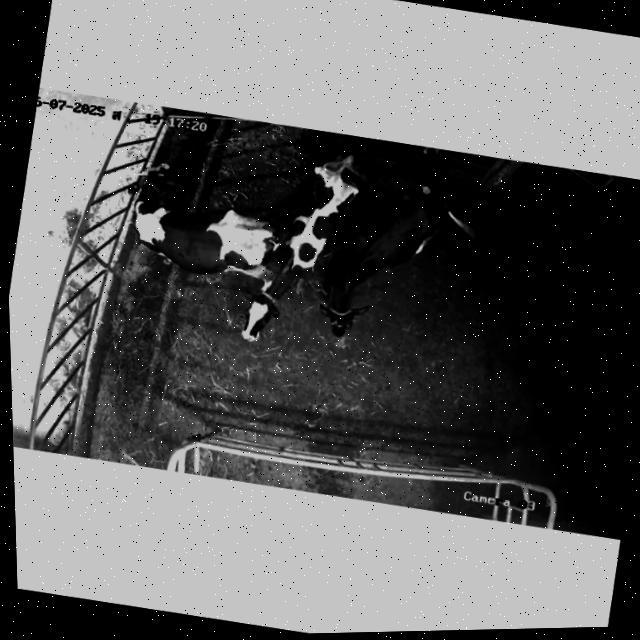stand: (241, 154, 371, 340), (319, 184, 475, 336), (133, 162, 276, 277)
